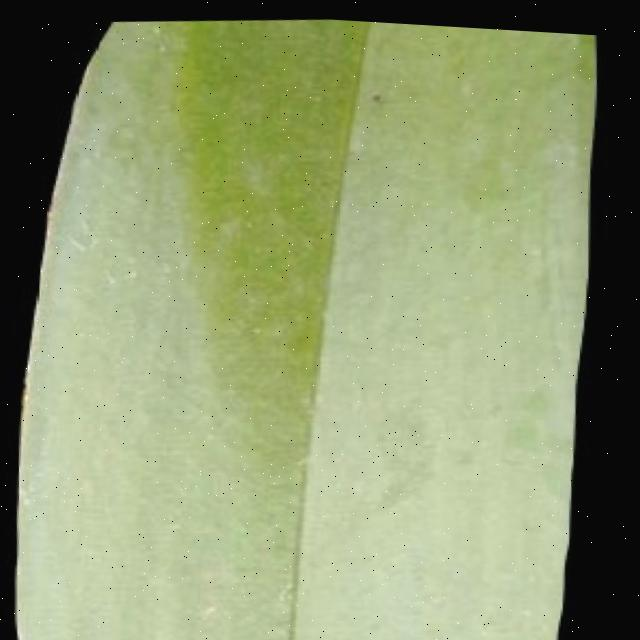mite: (164, 14, 328, 329), (359, 72, 395, 109), (363, 79, 388, 102), (368, 84, 384, 98)
